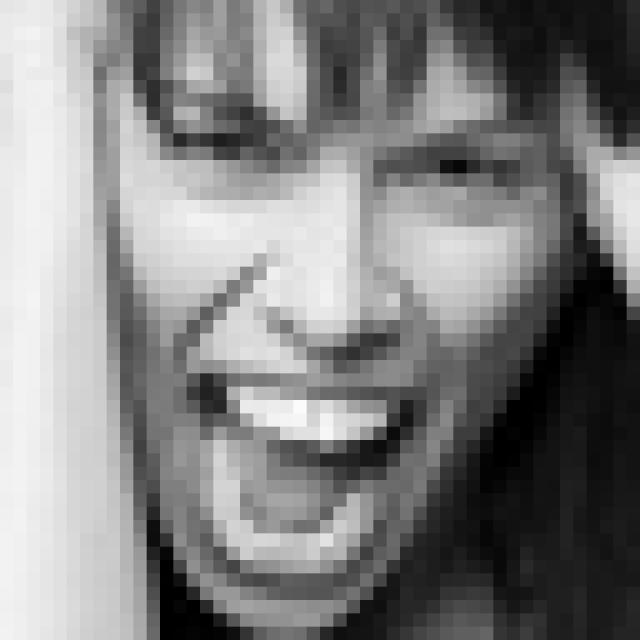angry: (144, 78, 540, 591)
